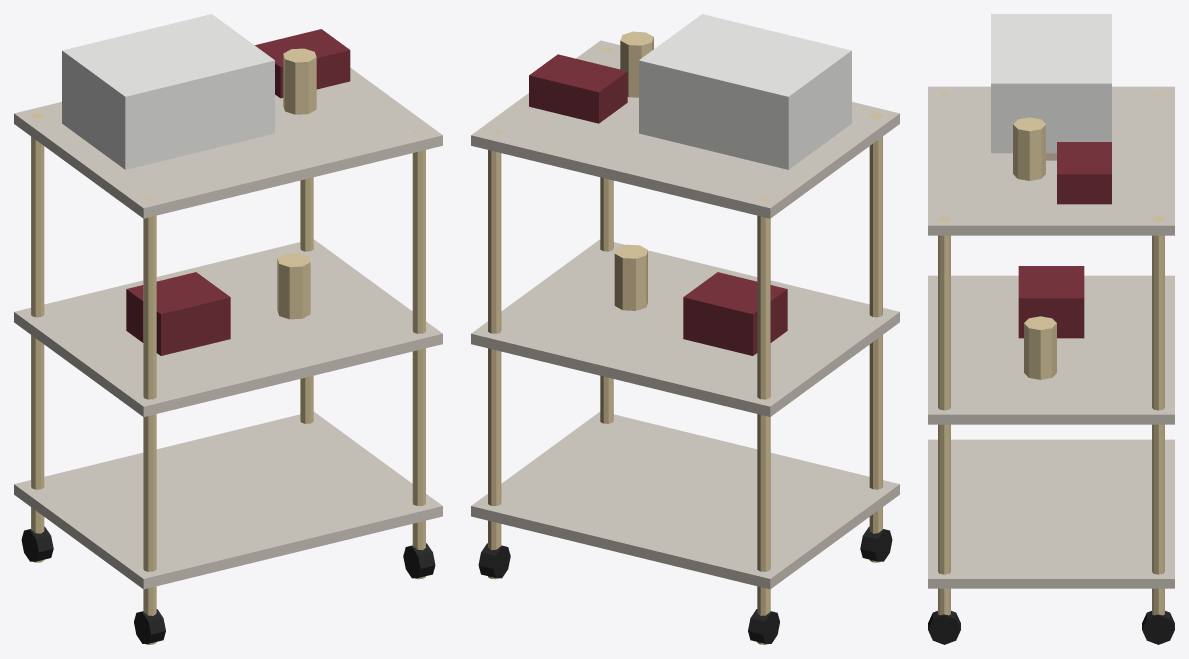
The model's file is cart_limpeza_pele.obj.
The picture shows the model from 3 angles, left to right: view 1: azimuth 30°, elevation 25°; view 2: azimuth 150°, elevation 25°; view 3: azimuth 270°, elevation 25°; orthographic projection. The views are drawn at different scales.
Parts seen in each view (by area): view 1: cart_limpeza_pele; view 2: cart_limpeza_pele; view 3: cart_limpeza_pele.
Part boxes in pixels (<box>): cart_limpeza_pele: <box>14,14,442,644</box>; cart_limpeza_pele: <box>471,14,899,644</box>; cart_limpeza_pele: <box>928,14,1174,644</box>.
Bounding box in the file's own units: 60 × 101 × 45.
